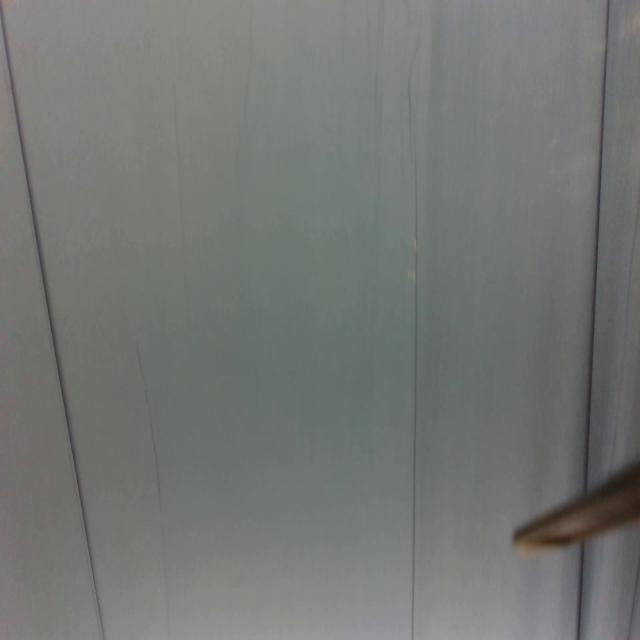crease: (0, 2, 103, 640), (583, 0, 610, 478), (133, 340, 172, 640), (611, 203, 640, 461), (407, 86, 419, 640), (171, 83, 190, 324), (623, 554, 640, 640), (573, 541, 587, 640)
